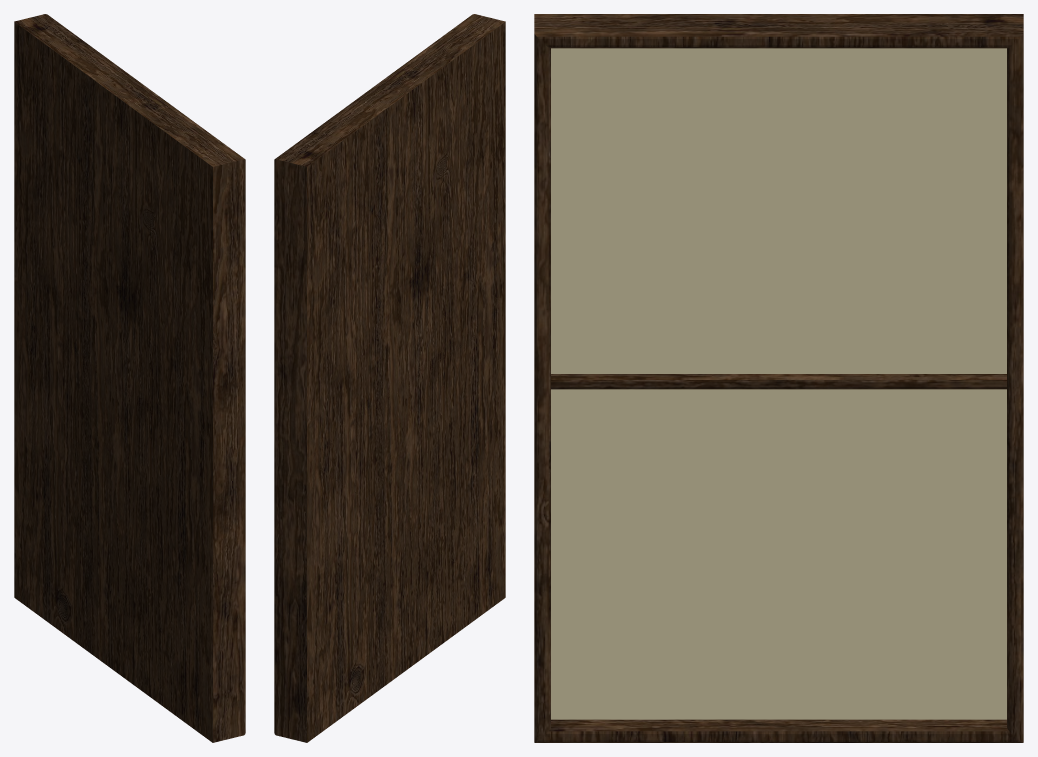
The model's file is Window.fbx.
The picture shows the model from 3 angles, left to right: view 1: azimuth 30°, elevation 25°; view 2: azimuth 150°, elevation 25°; view 3: azimuth 270°, elevation 25°; orthographic projection. The views are drawn at different scales.
Parts seen in each view (by area): view 1: Cube; view 2: Cube; view 3: Cube.
Part boxes in pixels (bbox=[...]): Cube: bbox=[14, 14, 245, 742]; Cube: bbox=[274, 14, 505, 742]; Cube: bbox=[534, 14, 1023, 742].
Bounding box in the file's own units: 20 × 320 × 200.
2 materials, 1 textured.
